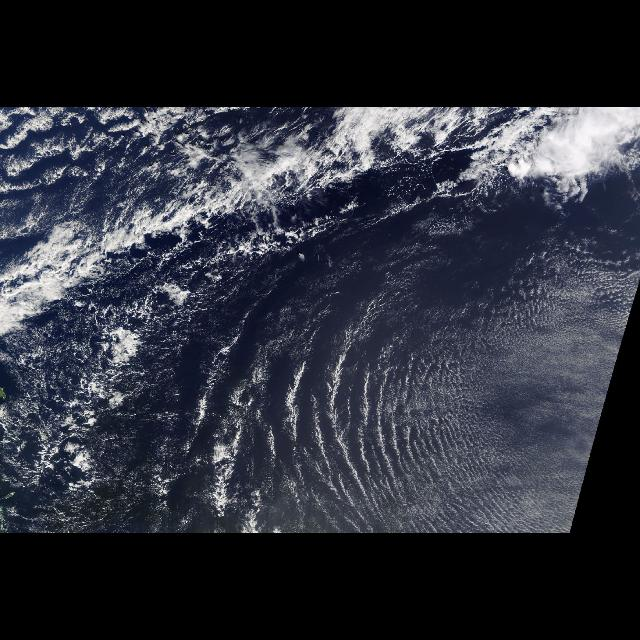Fish: (146, 108, 640, 255)
Gravel: (7, 224, 202, 522)
Sugar: (143, 214, 639, 534)
